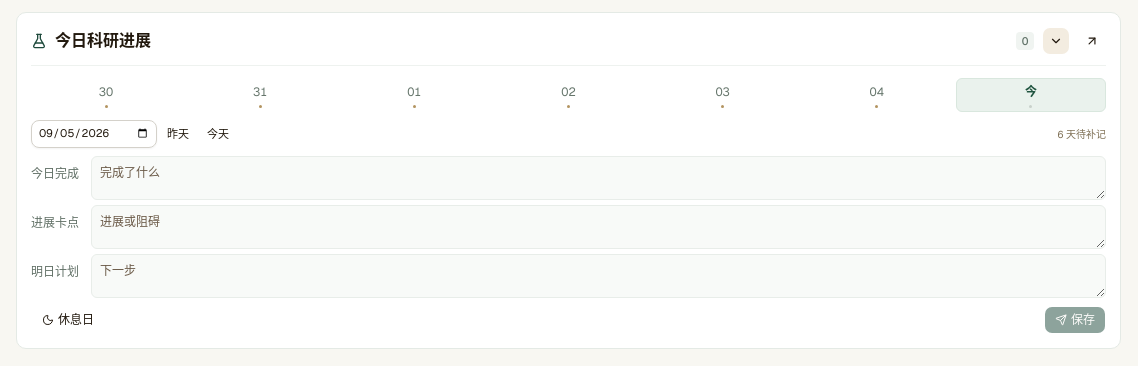
Scenario: ResearchProgressPanel › does not clear a newer draft from another tab when an earlier submission finishes
Type "已提交版本" into the text box labelled "今日完成" at (598, 178), box [91, 156, 1106, 200]
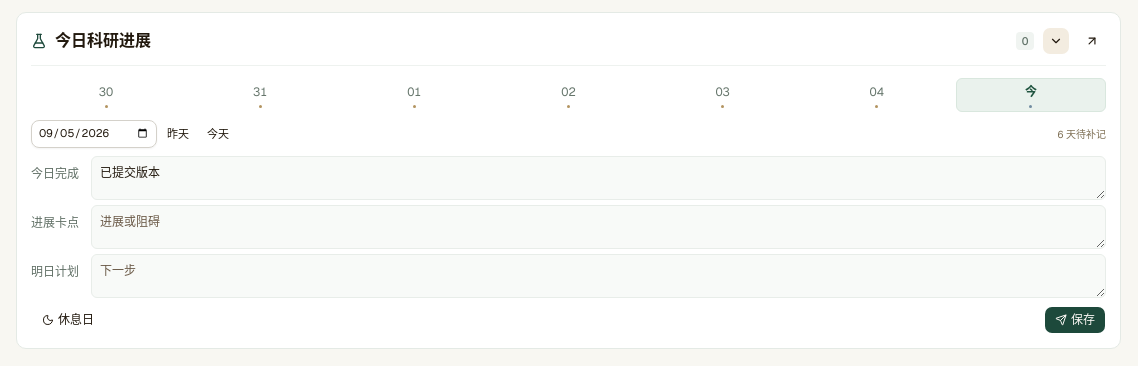
Click the button with aria-label "保存科研日志" at (1075, 320), box [1044, 306, 1106, 334]
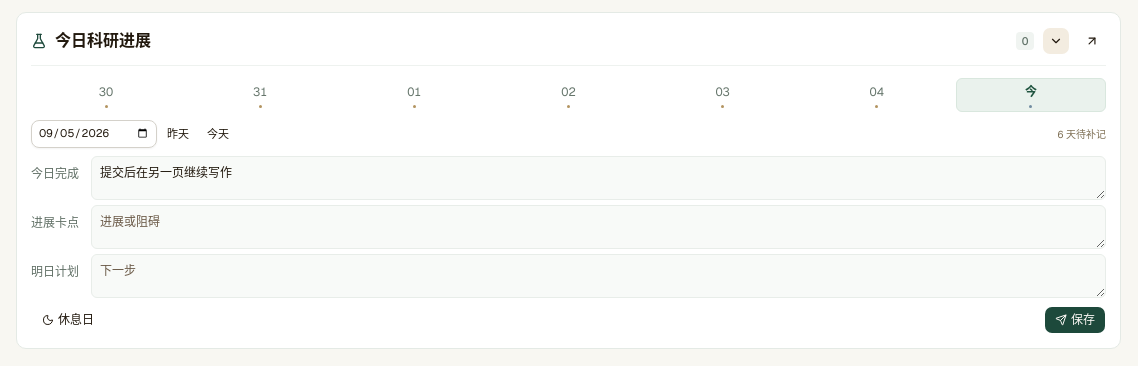
Result: the text box labelled "今日完成" holds "提交后在另一页继续写作" at [91, 156, 1106, 200]
